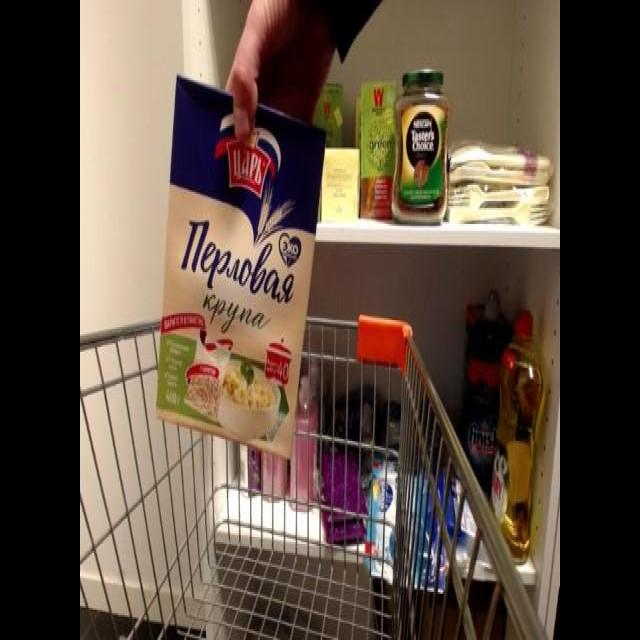Groats: (152, 73, 331, 467)
